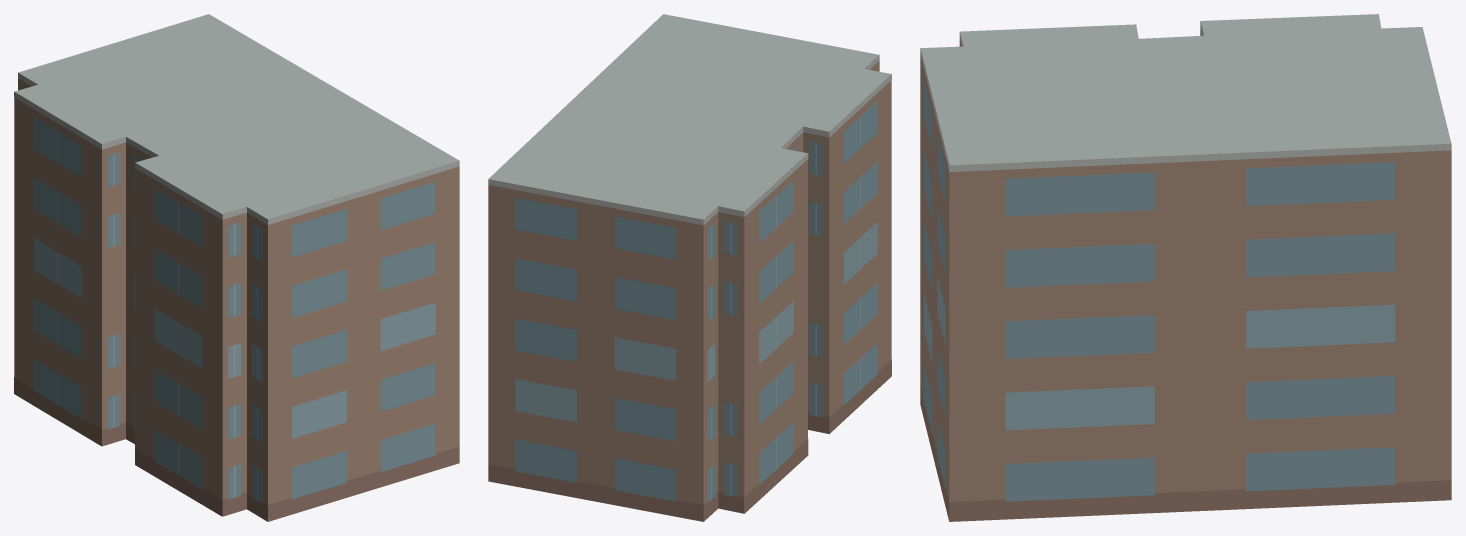
Rendered from survey-upis-32662918.glb.
The picture shows the model from 3 angles, left to right: view 1: azimuth 30°, elevation 25°; view 2: azimuth 150°, elevation 25°; view 3: azimuth 270°, elevation 25°; orthographic projection. The views are drawn at different scales.
Visible parts, largest first — view 1: survey-upis-32662918.tmp; view 2: survey-upis-32662918.tmp; view 3: survey-upis-32662918.tmp.
Boxes of the visible parts, bbox=[...] form: survey-upis-32662918.tmp: bbox=[14, 14, 459, 521]; survey-upis-32662918.tmp: bbox=[488, 14, 891, 521]; survey-upis-32662918.tmp: bbox=[920, 14, 1451, 521].
Bounding box in the file's own units: 11.9 × 13.05 × 17.63.
